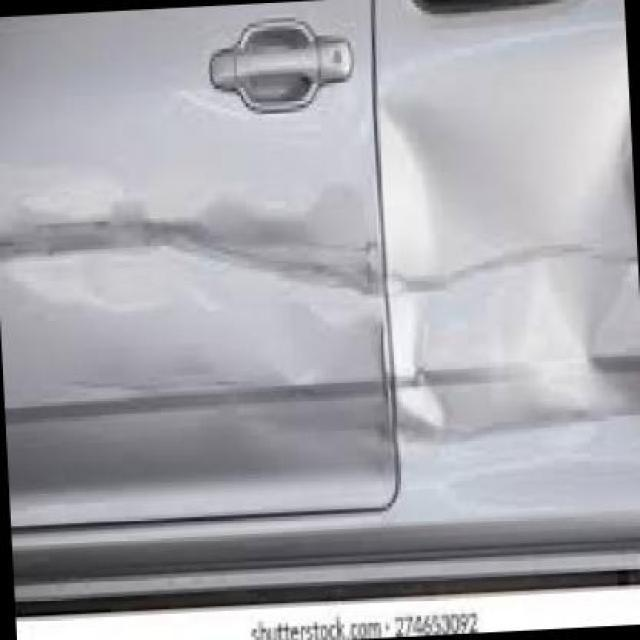dent: (400, 188, 640, 432), (15, 245, 326, 318)
